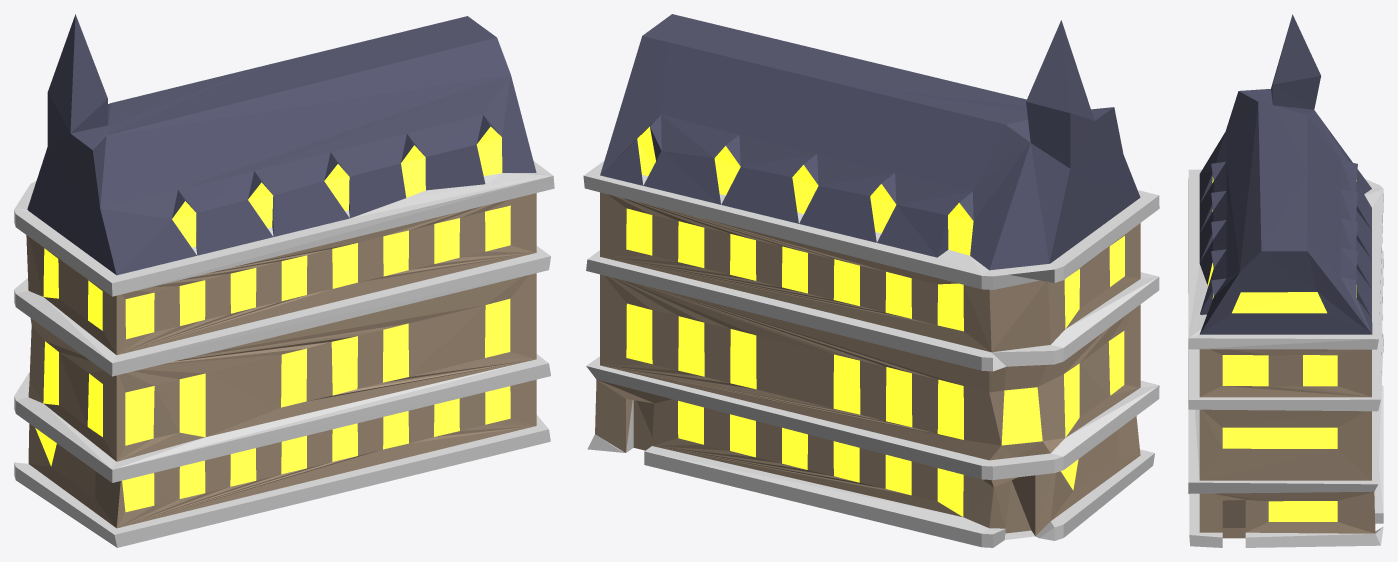
Rendered from HouseBlue1_LOD3.fbx.
The picture shows the model from 3 angles, left to right: view 1: azimuth 30°, elevation 25°; view 2: azimuth 150°, elevation 25°; view 3: azimuth 270°, elevation 25°; orthographic projection. The views are drawn at different scales.
Parts seen in each view (by area): view 1: Cube; view 2: Cube; view 3: Cube.
Boxes of the visible parts, x1=… form: Cube: x1=14, y1=14, x2=554, y2=547; Cube: x1=583, y1=14, x2=1159, y2=547; Cube: x1=1188, y1=14, x2=1383, y2=547.
Size of the model in its own units: 3500 by 3603 by 1697.
